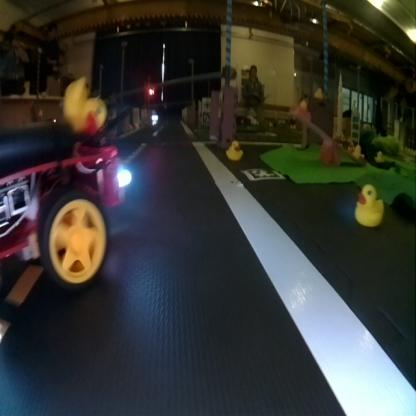Duckie: (64, 76, 104, 131), (354, 183, 384, 224), (225, 142, 243, 160), (352, 143, 364, 158)
Duckiebot: (1, 124, 122, 289)
QR code: (241, 168, 282, 180)
Traffic light: (148, 87, 155, 95)
